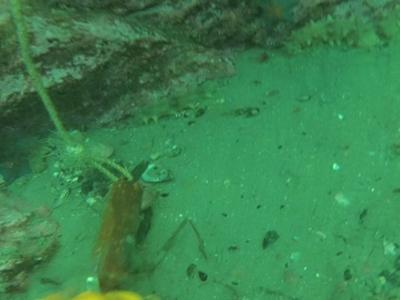holothurian: (126, 77, 222, 126), (277, 13, 370, 54)
